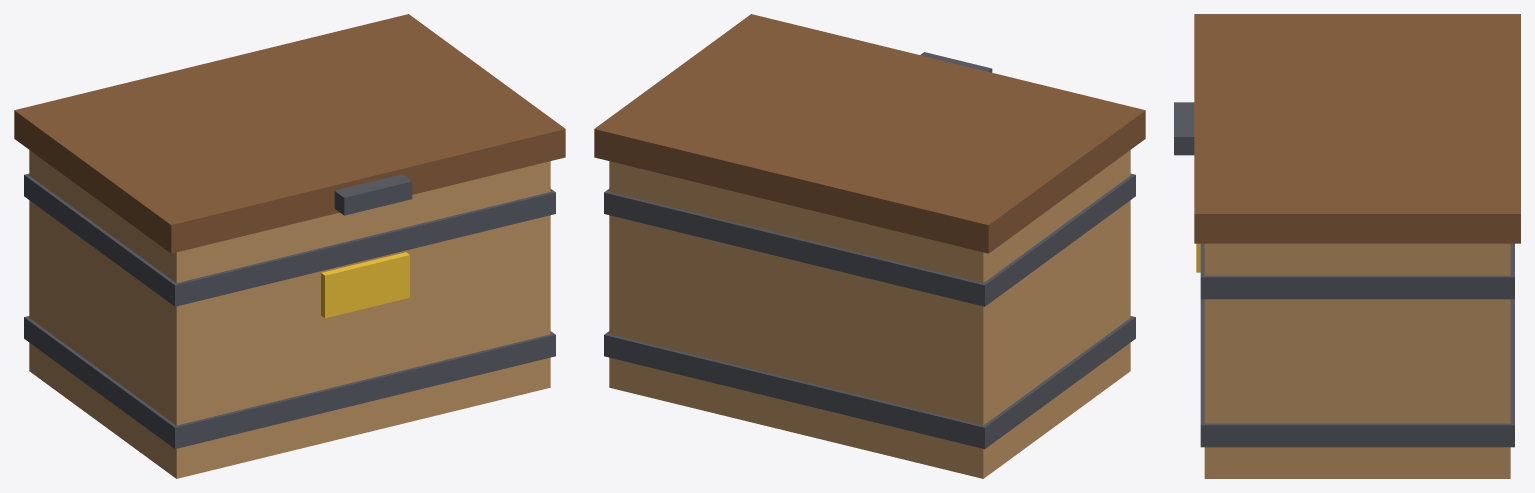
Rendered from shipping_bin.obj.
The picture shows the model from 3 angles, left to right: view 1: azimuth 30°, elevation 25°; view 2: azimuth 150°, elevation 25°; view 3: azimuth 270°, elevation 25°; orthographic projection. The views are drawn at different scales.
Visible parts, largest first — view 1: box, lid; view 2: box, lid; view 3: lid, box.
Part boxes in pixels (<box>): box: <box>24,150,555,478</box>; lid: <box>14,14,565,253</box>; box: <box>604,150,1135,478</box>; lid: <box>594,14,1145,253</box>; lid: <box>1174,14,1520,243</box>; box: <box>1196,243,1514,478</box>.
Bounding box in the file's own units: 1.16 × 0.73 × 0.85.
